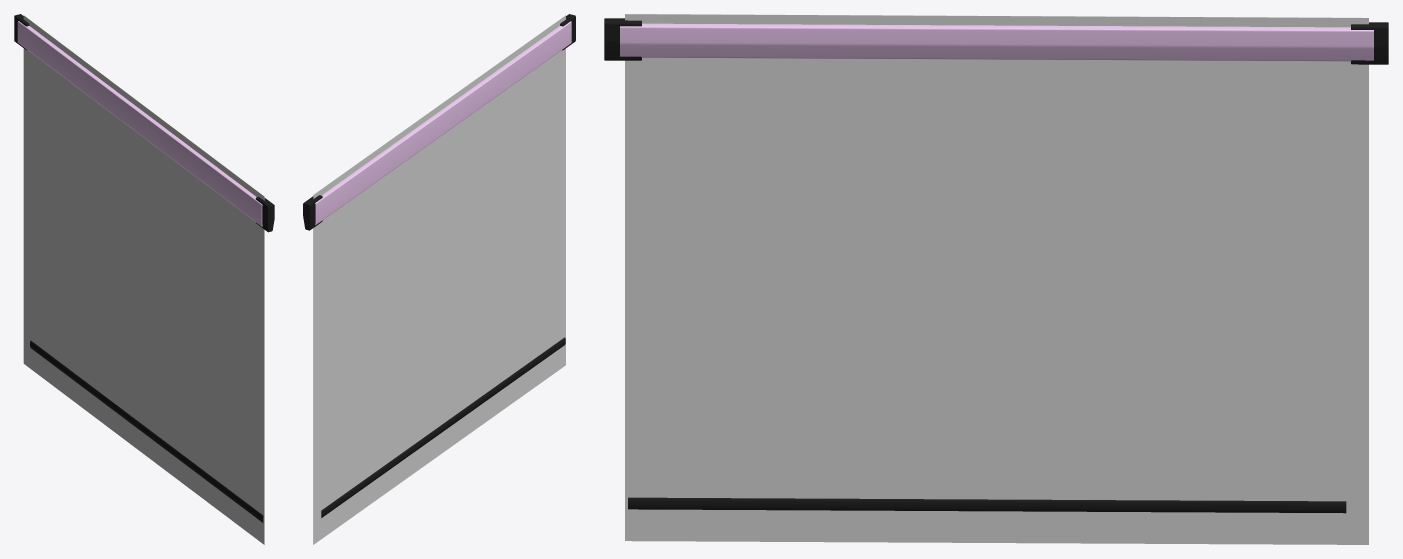
File: pizarraproyectora.glb
3 renders of one model, left to right at view 1: azimuth 30°, elevation 25°; view 2: azimuth 150°, elevation 25°; view 3: azimuth 270°, elevation 25°, orthographic. The views are drawn at different scales.
Parts seen in each view (by area): view 1: Rectangle004, Rectangle001, Cylinder002, Rectangle003; view 2: Rectangle004, Rectangle001, Cylinder002, Rectangle002; view 3: Rectangle004, Rectangle001, Cylinder002, Rectangle003.
Boxes of the visible parts, x1,y1,x2,y2 form: Rectangle004: (23, 15, 264, 544); Rectangle001: (17, 21, 262, 226); Cylinder002: (30, 341, 263, 522); Rectangle003: (255, 197, 274, 232); Rectangle004: (313, 15, 565, 544); Rectangle001: (315, 21, 571, 225); Cylinder002: (321, 337, 565, 517); Rectangle002: (303, 195, 322, 230); Rectangle004: (625, 14, 1368, 544); Rectangle001: (620, 23, 1373, 61); Cylinder002: (628, 497, 1346, 513); Rectangle003: (604, 18, 641, 60).
Bounding box in the file's own units: 0.1315 × 3.09 × 4.16.
6 materials, 1 textured.
